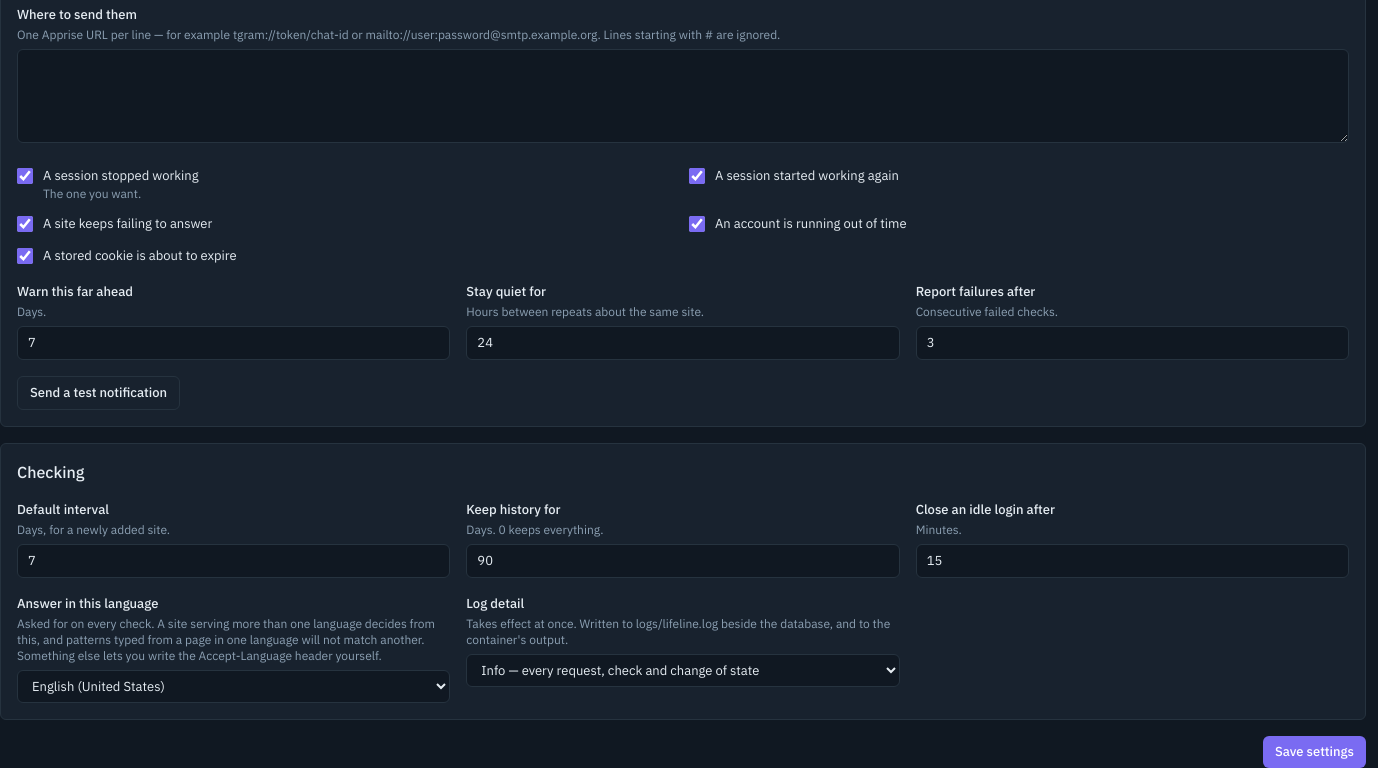
Settings › confirms that the settings were saved
The image size is (1378, 768).
(page scrolled)
Expected: the text box labelled "Where to send them" is shown, x1=17 y1=49 x2=1349 y2=143
Click the button "Save settings" at (1314, 752), box x1=1263 y1=736 x2=1366 y2=767
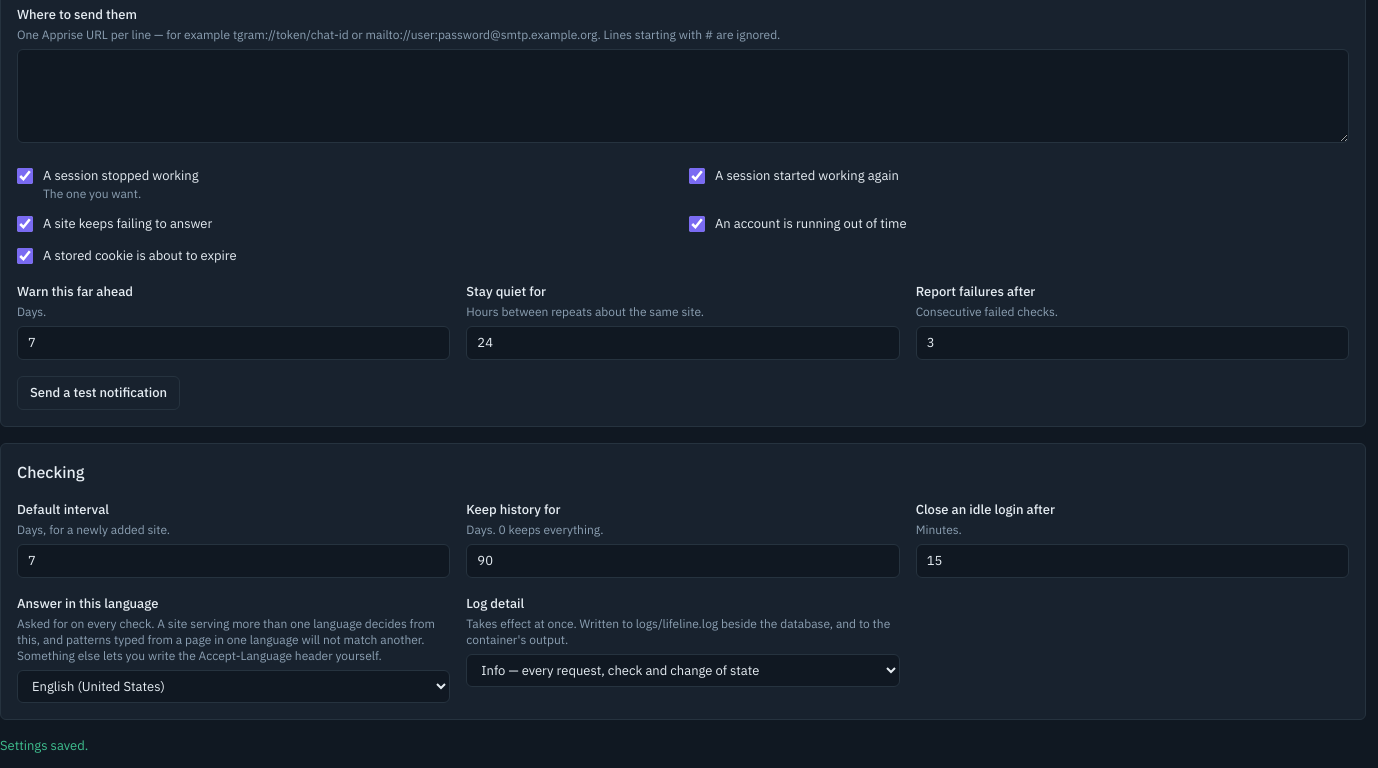
Now the message reads "Settings saved.", box x1=0 y1=737 x2=88 y2=754
